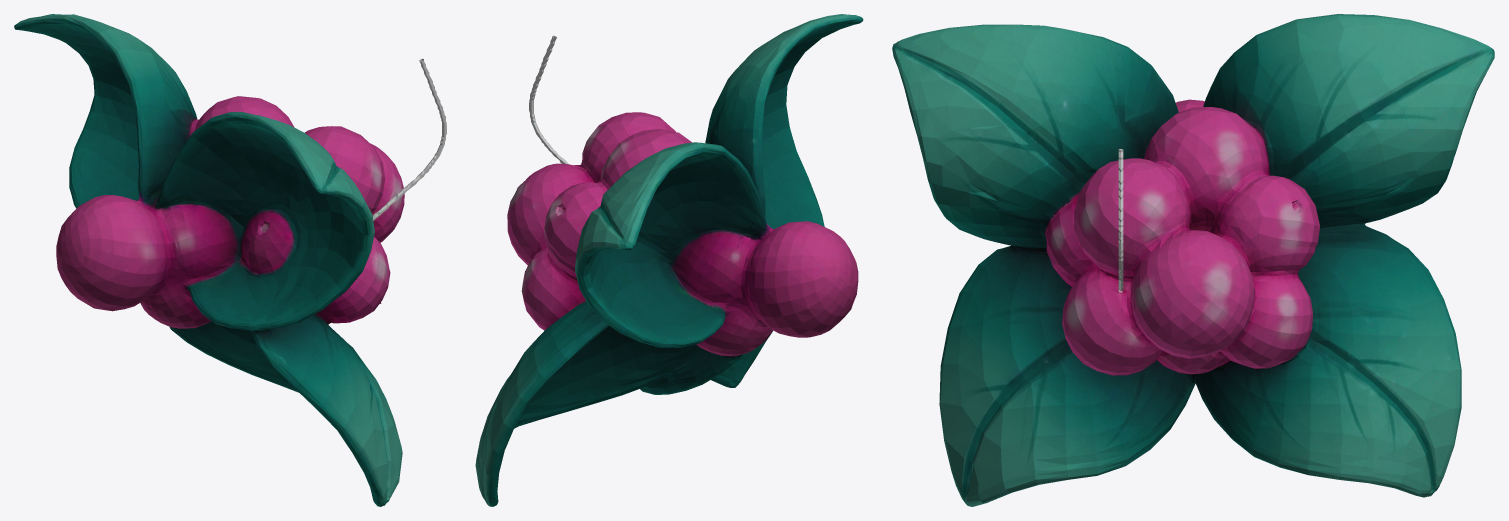
The model's file is berry_cluster.glb.
The picture shows the model from 3 angles, left to right: view 1: azimuth 30°, elevation 25°; view 2: azimuth 150°, elevation 25°; view 3: azimuth 270°, elevation 25°; orthographic projection. The views are drawn at different scales.
Parts seen in each view (by area): view 1: tripo_node_c1066194-d1c0-4155-bac5-40bdfa428520; view 2: tripo_node_c1066194-d1c0-4155-bac5-40bdfa428520; view 3: tripo_node_c1066194-d1c0-4155-bac5-40bdfa428520.
Boxes of the visible parts, box(x1,y1,x2,y2) form: tripo_node_c1066194-d1c0-4155-bac5-40bdfa428520: box(14, 14, 446, 506); tripo_node_c1066194-d1c0-4155-bac5-40bdfa428520: box(475, 14, 863, 506); tripo_node_c1066194-d1c0-4155-bac5-40bdfa428520: box(892, 14, 1494, 506).
Size of the model in its own units: 0.7534 by 0.7945 by 1.
Materials: 1 (1 with a texture image).
